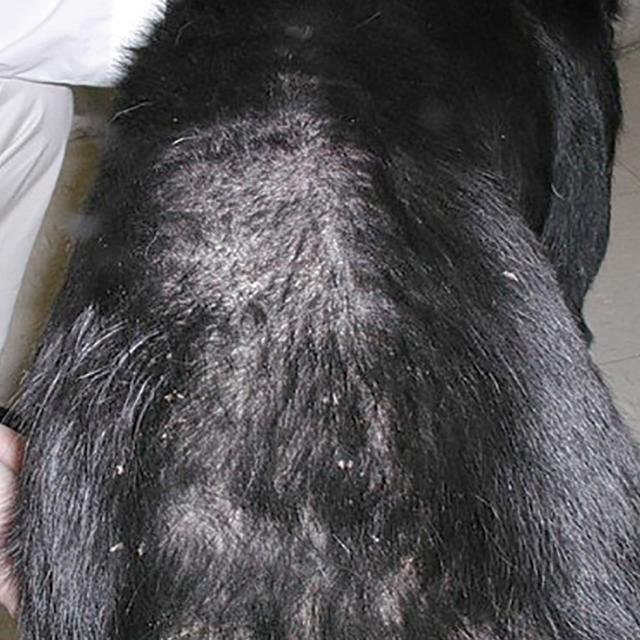di ung bo chet: (139, 84, 484, 636)
